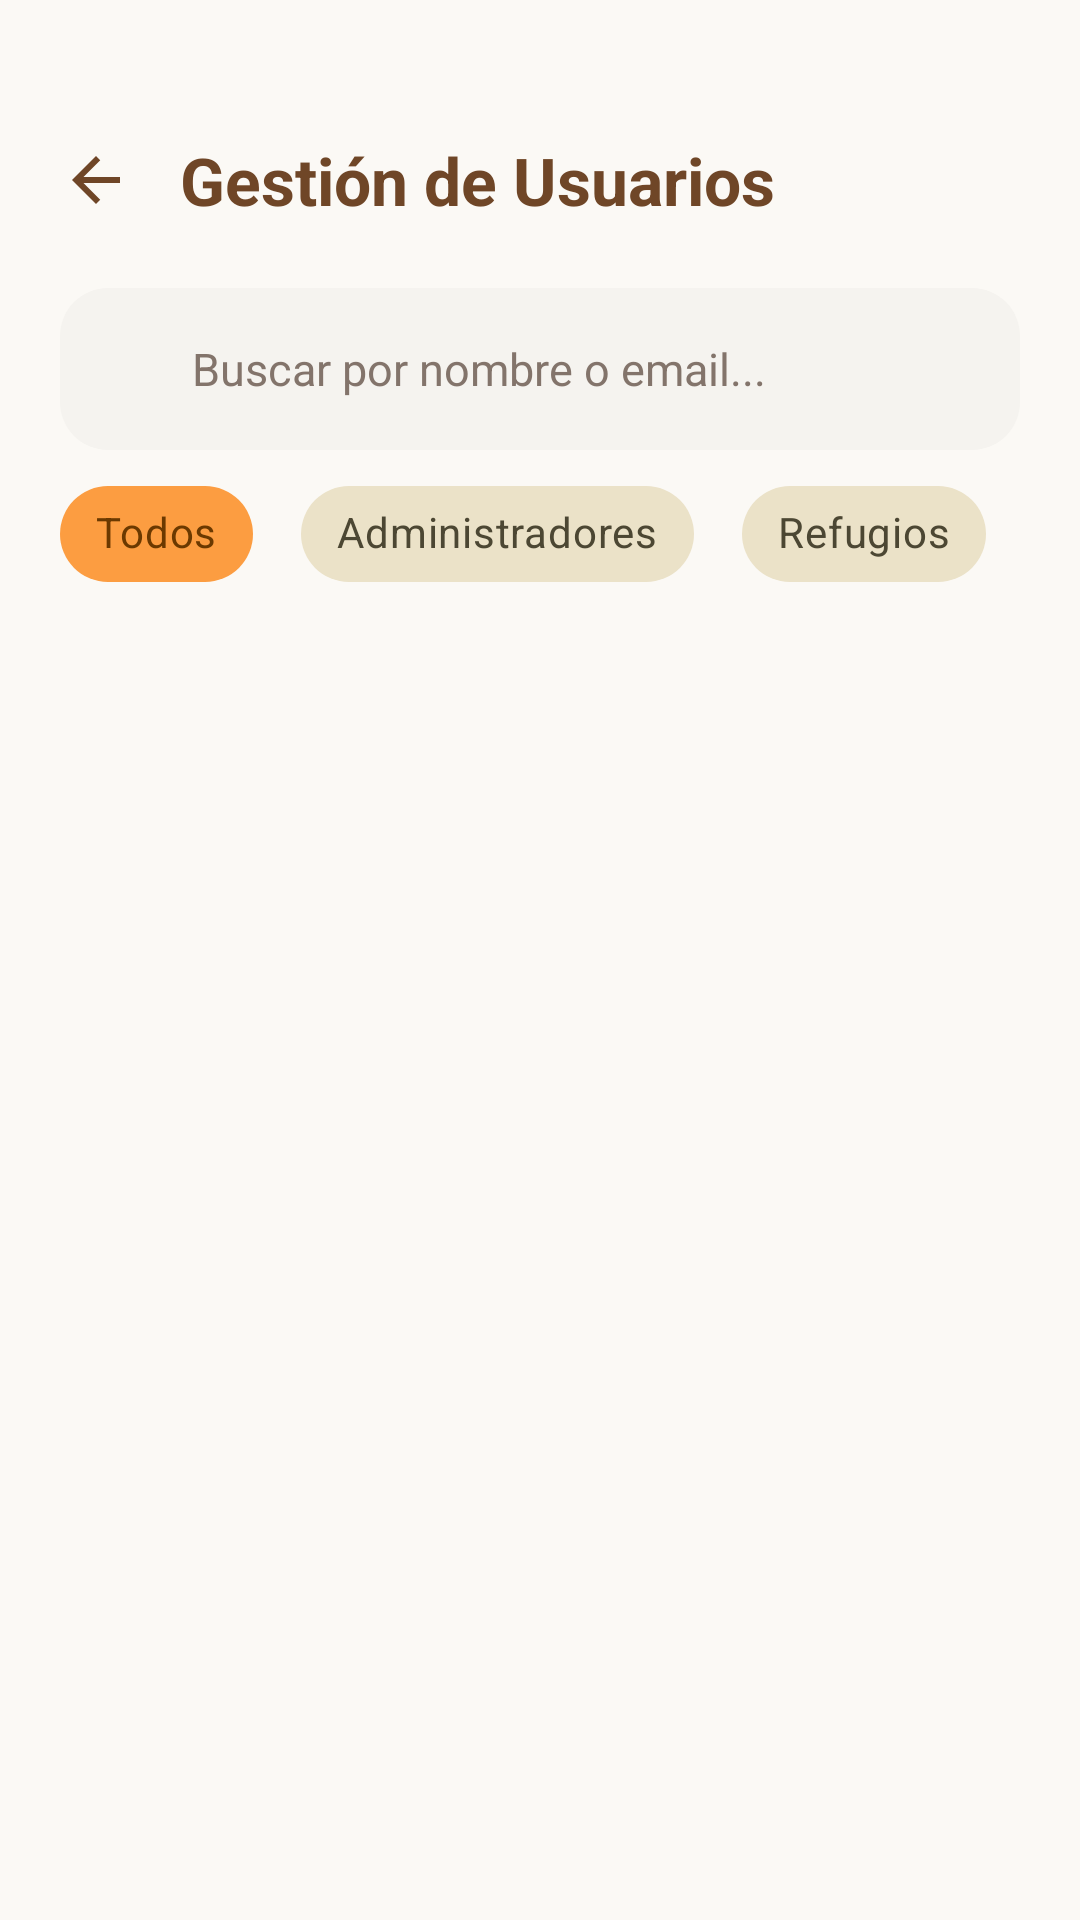

Screen size 1080×1920. Icon name, then its box in pixels as (x1, y1, x2, y2):
Volver: (72, 156, 120, 204)
